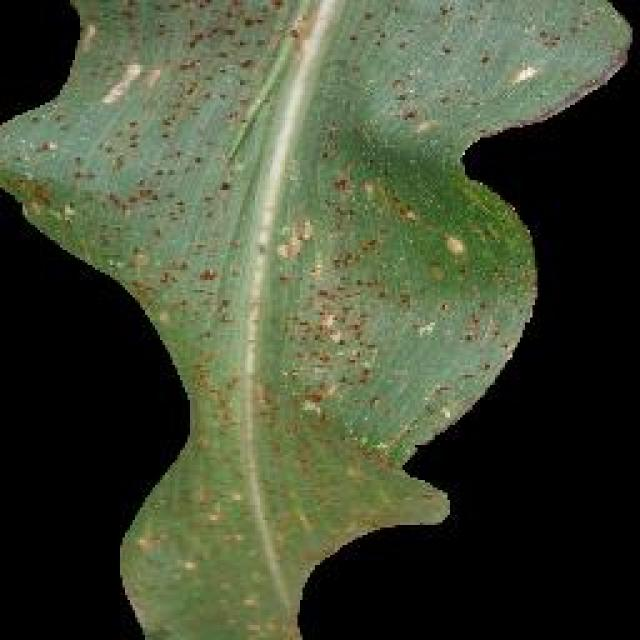Corn Common Rust: (125, 128, 525, 558)
